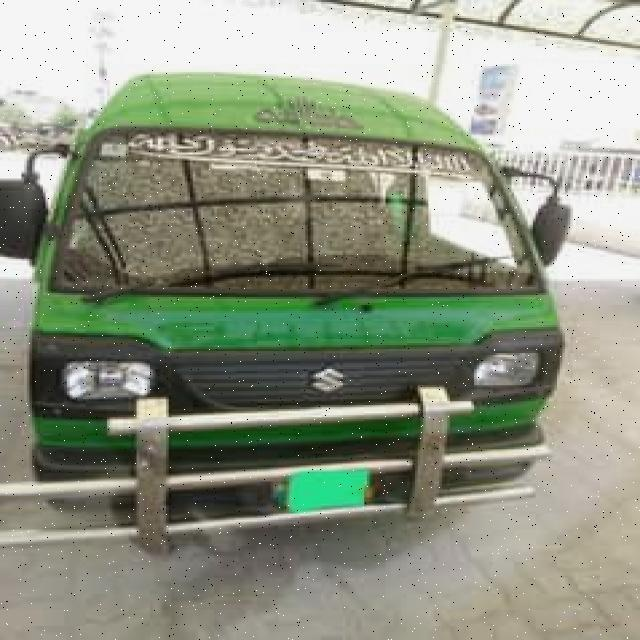Van: (0, 70, 568, 550)
